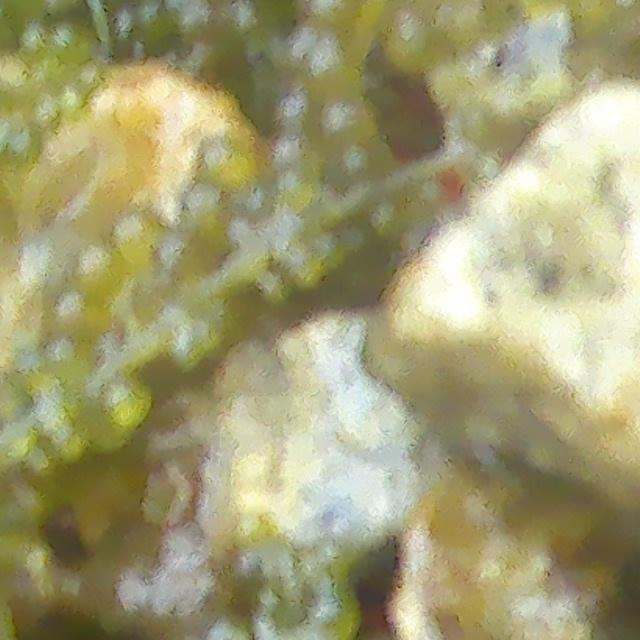SeaGrape: (99, 377, 148, 426)
